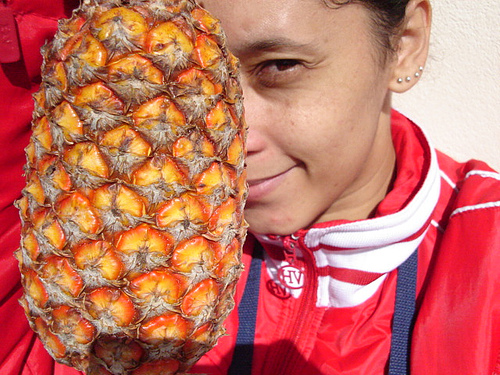pineapple: (12, 0, 240, 374)
